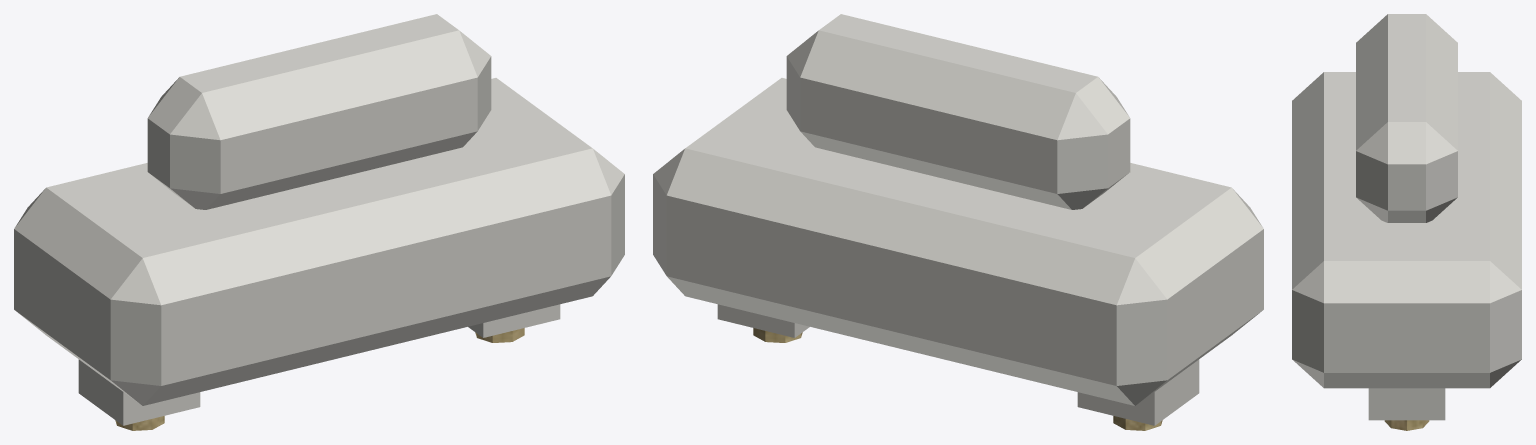
Rendered from fuse.glb.
3 renders of one model, left to right at view 1: azimuth 30°, elevation 25°; view 2: azimuth 150°, elevation 25°; view 3: azimuth 270°, elevation 25°, orthographic. The views are drawn at different scales.
Visible parts, largest first — view 1: Fuse; view 2: Fuse; view 3: Fuse.
Part boxes in pixels (left/top/right/bottom): Fuse: left=14, top=14, right=624, bottom=430; Fuse: left=653, top=14, right=1263, bottom=430; Fuse: left=1292, top=14, right=1521, bottom=430.
Bounding box in the file's own units: 0.08 × 0.048 × 0.036.
Materials: 2 (1 with a texture image).
